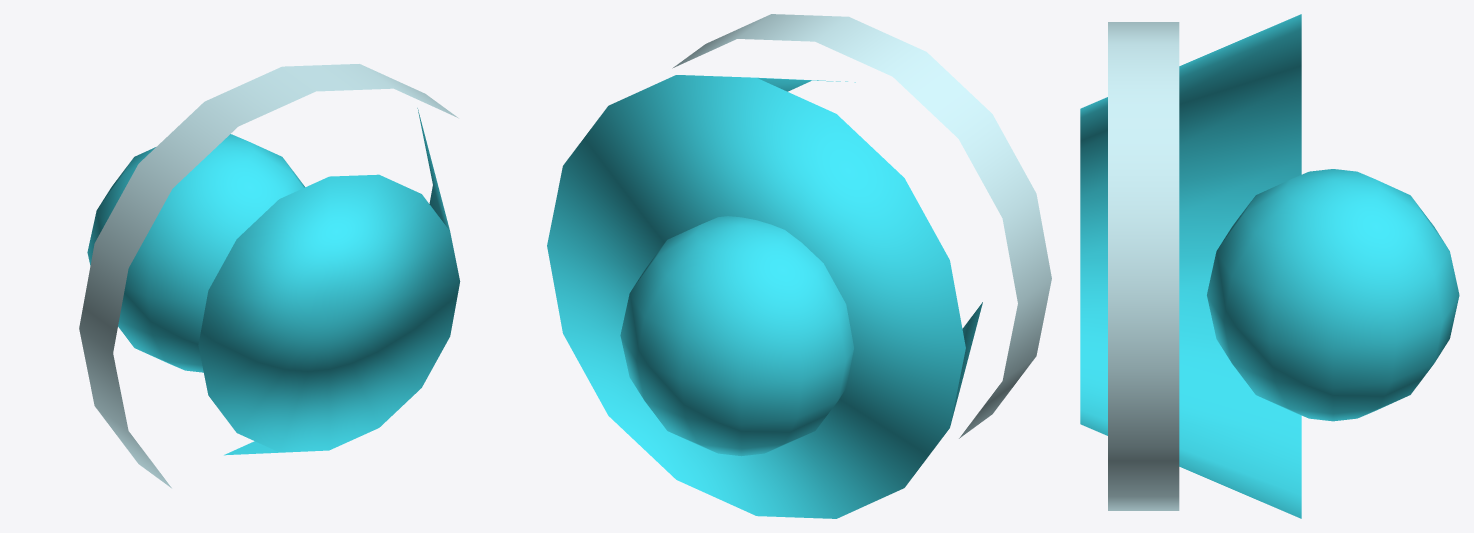
Rendered from snake_cyan_tail.glb.
The picture shows the model from 3 angles, left to right: view 1: azimuth 30°, elevation 25°; view 2: azimuth 150°, elevation 25°; view 3: azimuth 270°, elevation 25°; orthographic projection. The views are drawn at different scales.
Bounding box in the file's own units: 0.64 × 0.64 × 0.48.
